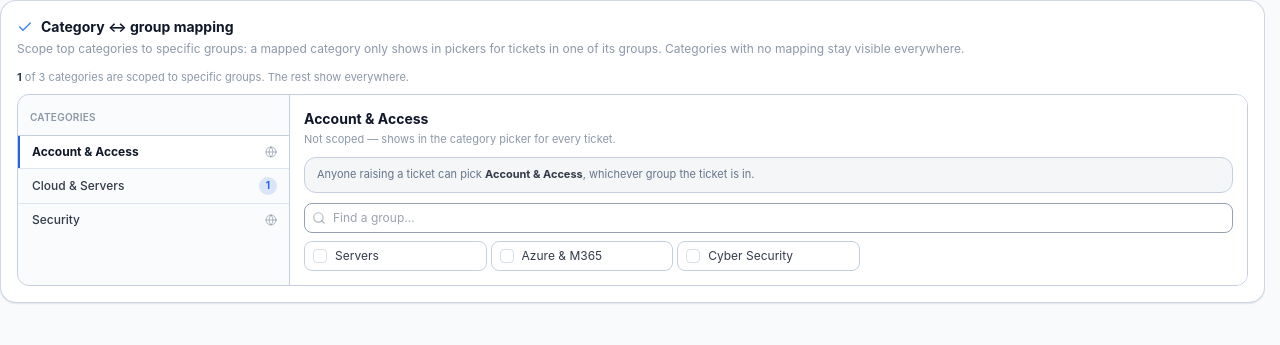
Test: editing › "Show everywhere" clears only the selected category
Check: the list with test id "cgm-category-list" is shown, box x1=18 y1=136 x2=289 y2=285
Click the text "Cloud & Servers" at [78, 185], box x1=32 y1=178 x2=124 y2=192
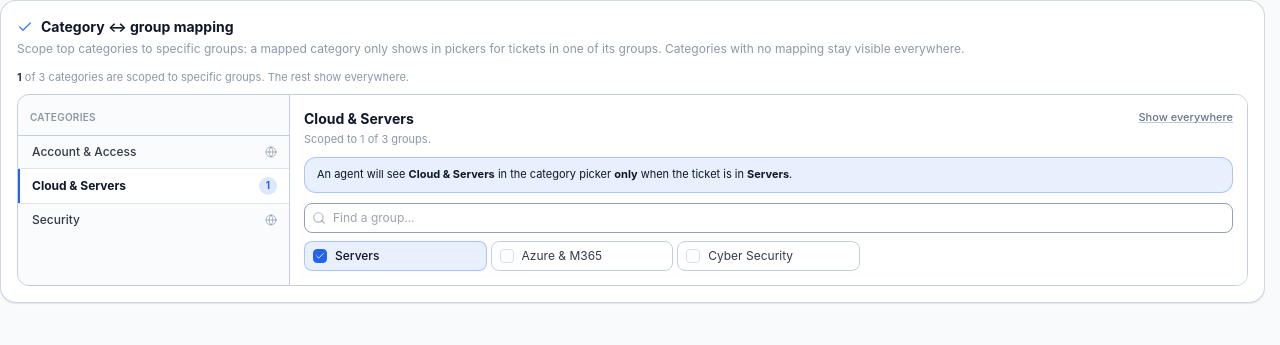
Click the button "Show everywhere" at [1186, 117], box x1=1138 y1=108 x2=1233 y2=125
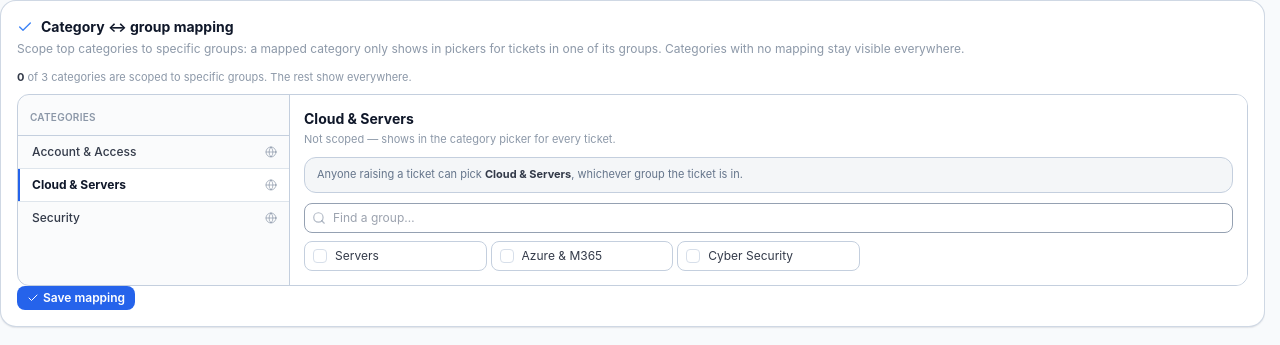
Check: the element with test id "cgm-explainer" shows "Anyone raising a ticket can pick Cloud & Servers", box x1=304 y1=157 x2=1233 y2=193
Check: the element with test id "cgm-summary" shows "0 of 3", box x1=17 y1=70 x2=412 y2=84
